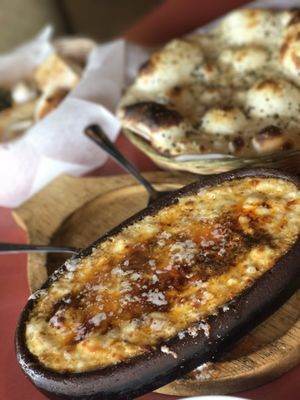sandwich: (17, 174, 300, 381), (116, 7, 300, 160)
